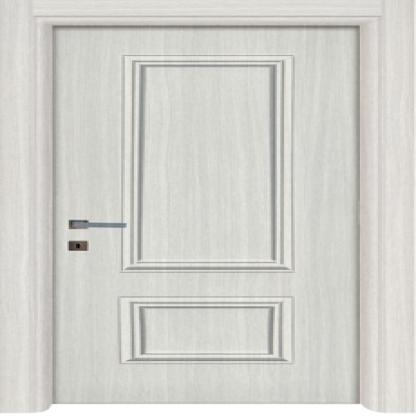door: (51, 25, 356, 403)
